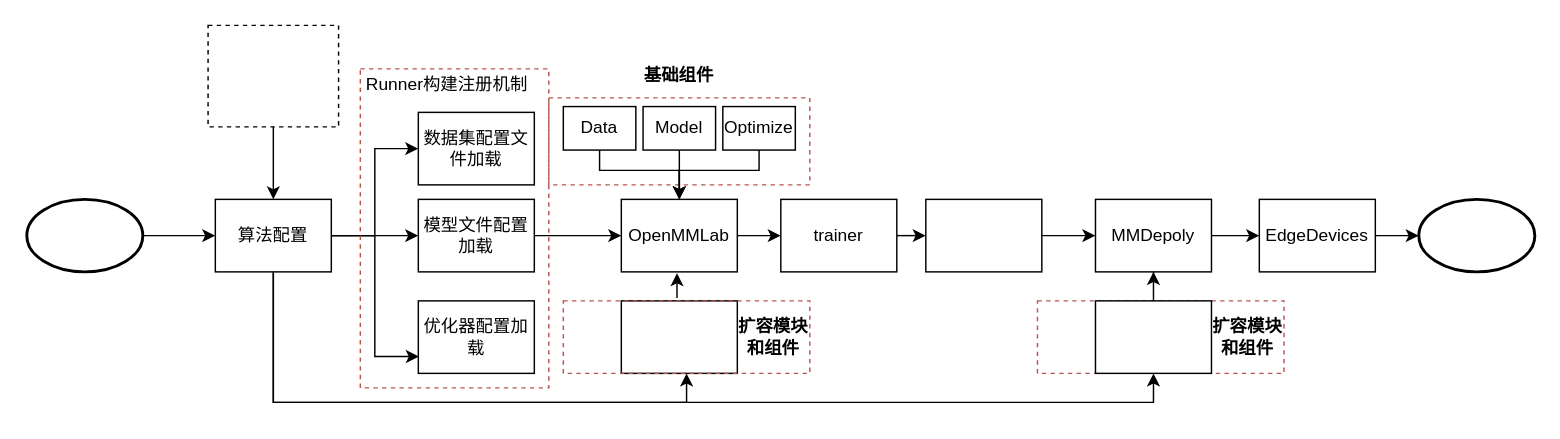
Some shapes in this 1560 by 439 pixel diagram are drawn without their labels. The shapes that lost their labels are listed below. From the top down, each one's centre as x and y in pixels, then its label:
At [273,75]: "开发人员自定义实现功能和构建模型配置文件".
At [84,235]: "开始".
At [983,235]: "export".
At [1476,235]: "结束".
At [678,336]: "new module".
At [1152,336]: "new inference module".
